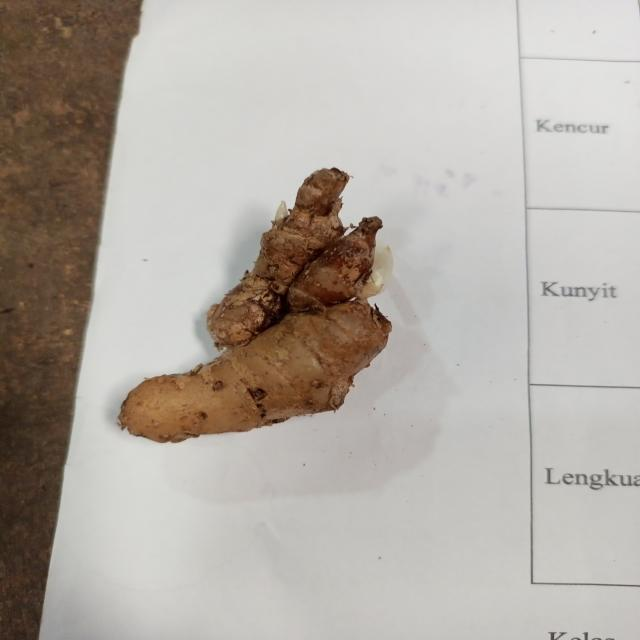ginger: (210, 174, 392, 438)
